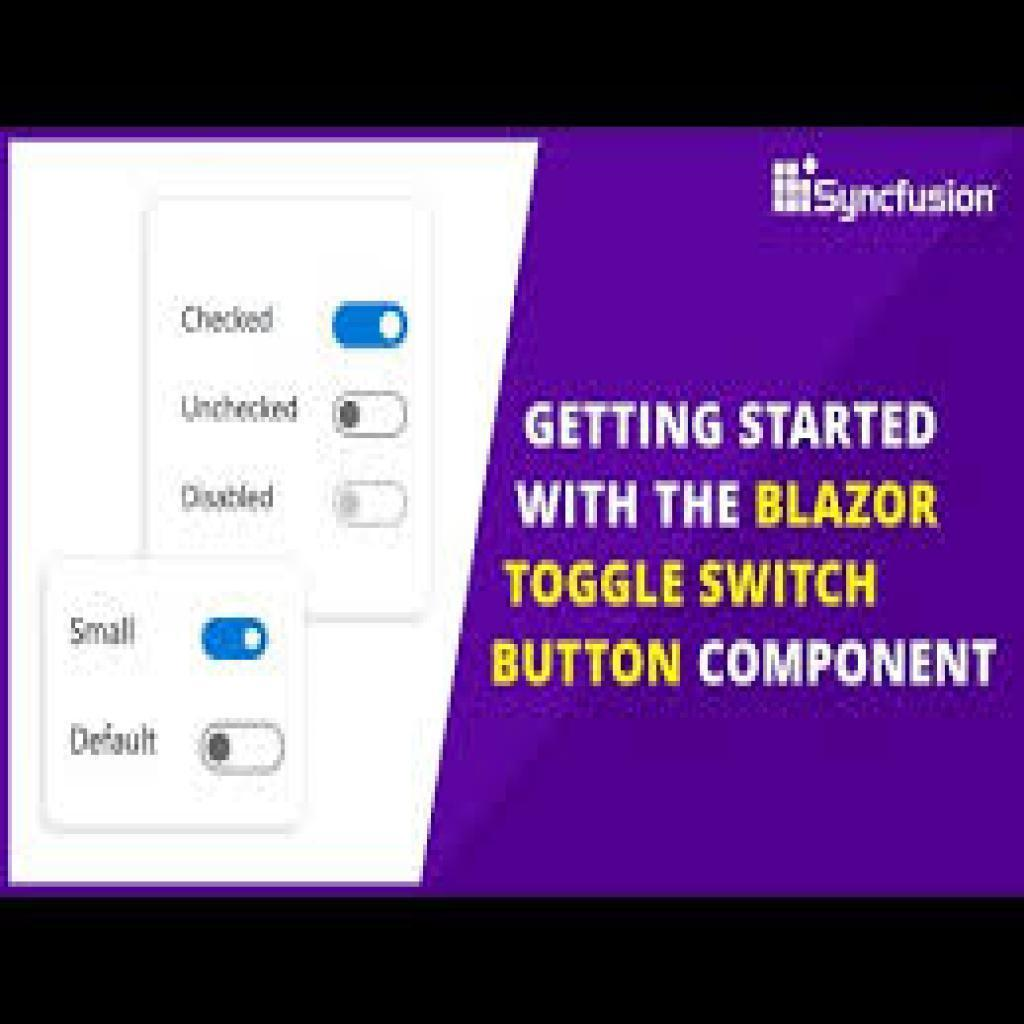label: (181, 387, 306, 426), (176, 297, 284, 341), (66, 719, 160, 760), (181, 477, 276, 515), (64, 613, 146, 655)
switch: (201, 723, 287, 777), (331, 482, 411, 528), (332, 302, 407, 349), (335, 393, 409, 440), (202, 619, 271, 662)
